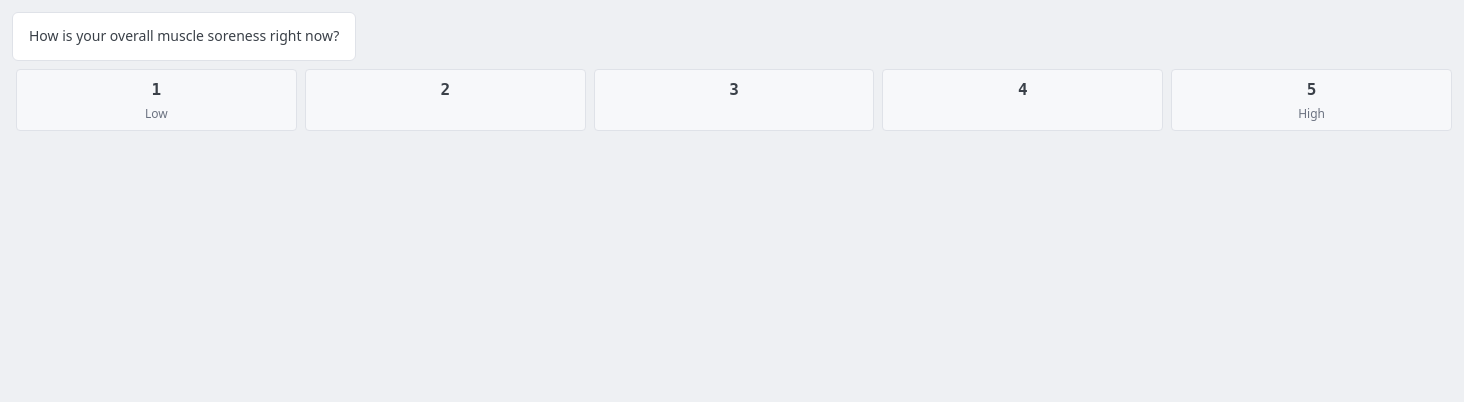
Test: ConversationalHealthCheck › disables the confirm button and shows a pending label while submitting
This screenshot has width=1464, height=402.
Click the button with test id "answer-muscle_soreness-2" at (445, 100), box [305,69,586,131]
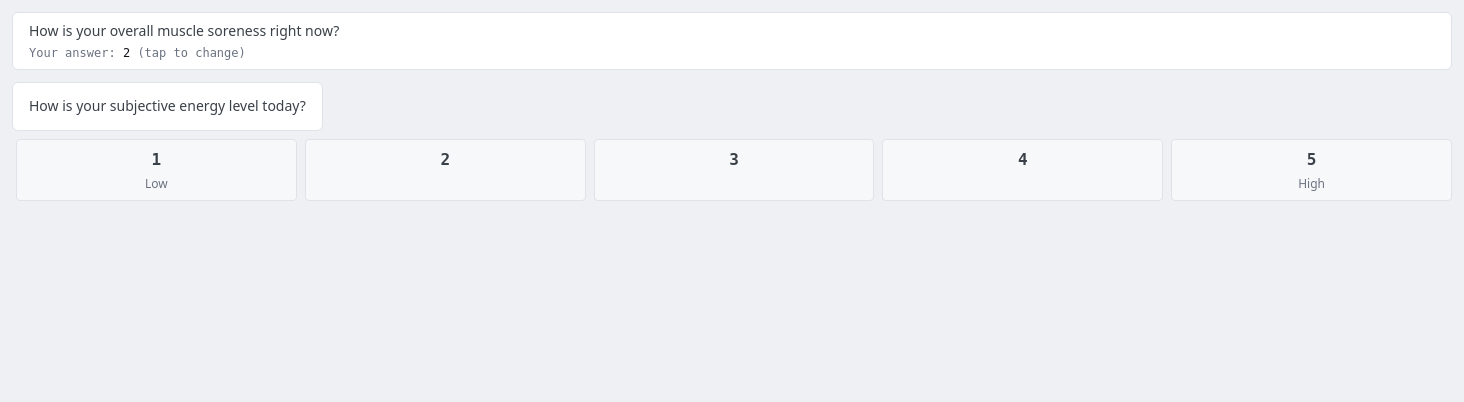
Click the button with test id "answer-subjective_energy-4" at (1023, 170), box [882,139,1163,201]
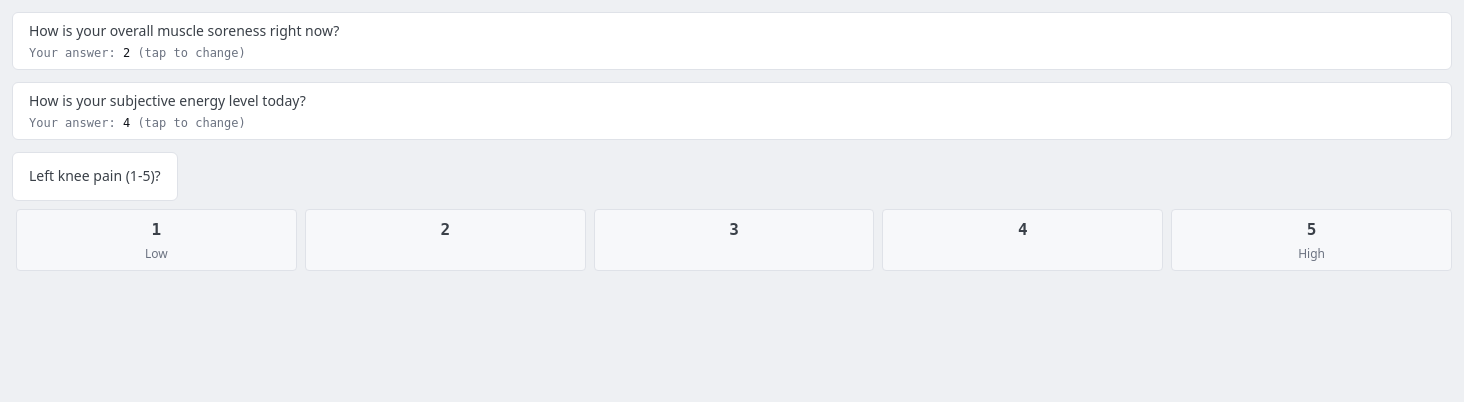
Click the button with test id "answer-left_knee_pain-1" at (156, 240), box [16,209,297,271]
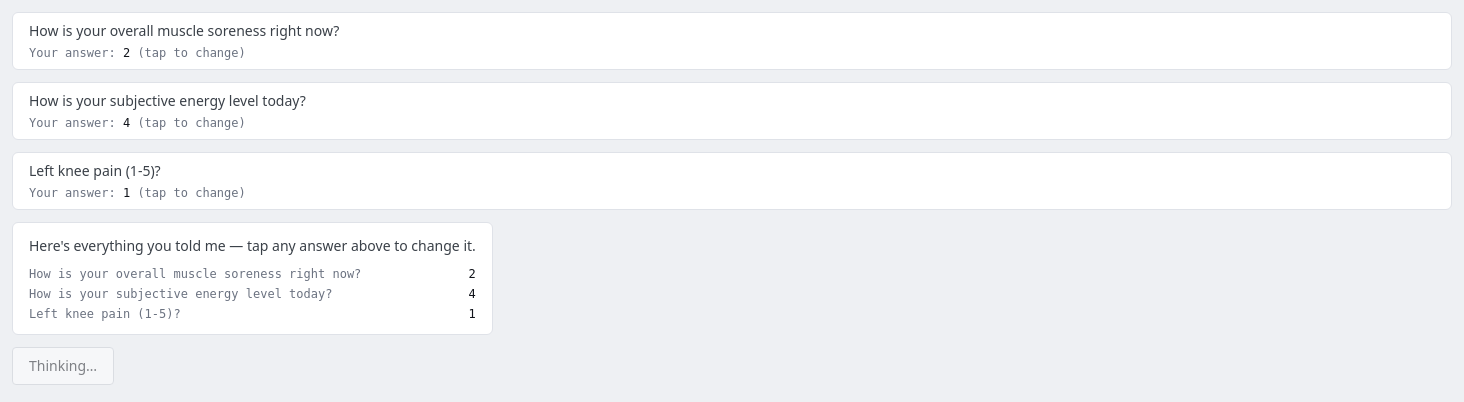
expect the button with test id "confirm-decision" is disabled: met, box [12,347,114,385]
expect the button with test id "confirm-decision" reads "Thinking…": met, box [12,347,114,385]
